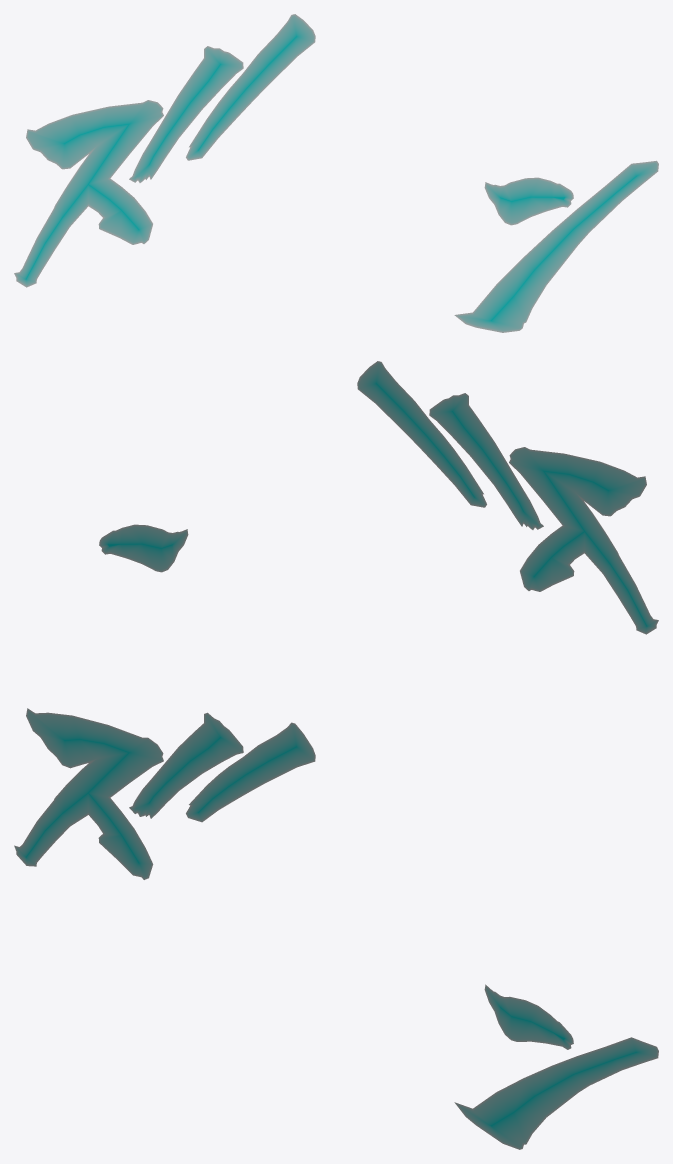
File: SM_EFF_Text_SuperExpansion_01.glb
3 views of the same model, one above another, from view 1: azimuth 30°, elevation 25°; view 2: azimuth 150°, elevation 25°; view 3: azimuth 330°, elevation 25° (orthographic).
Visible parts, largest first — view 1: SM_EFF_Text_SuperExpansion_01; view 2: SM_EFF_Text_SuperExpansion_01; view 3: SM_EFF_Text_SuperExpansion_01.
Part boxes in pixels (<box>): SM_EFF_Text_SuperExpansion_01: <box>14,14,658,332</box>; SM_EFF_Text_SuperExpansion_01: <box>99,361,658,634</box>; SM_EFF_Text_SuperExpansion_01: <box>14,708,658,1149</box>.
Bounding box in the file's own units: 3.09 × 1.7 × 1.31e-09.
